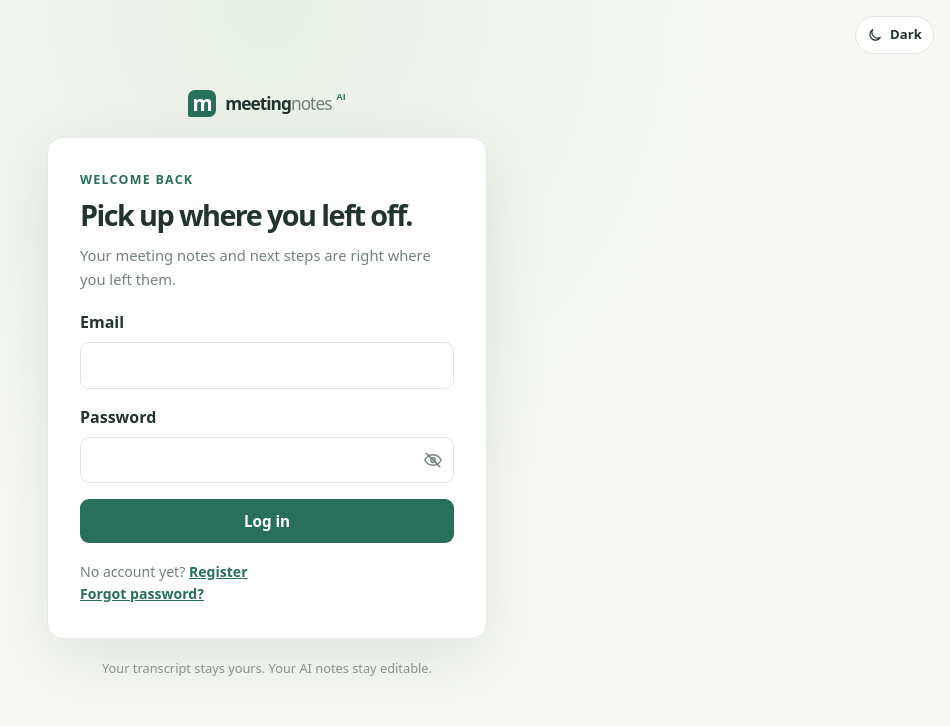
Test: AuthPage › shows failed sign-in feedback inline
The image size is (950, 726).
Type "person@example.com" into the field labelled "Email" at coordinates (267, 366), box [80,342,454,389]
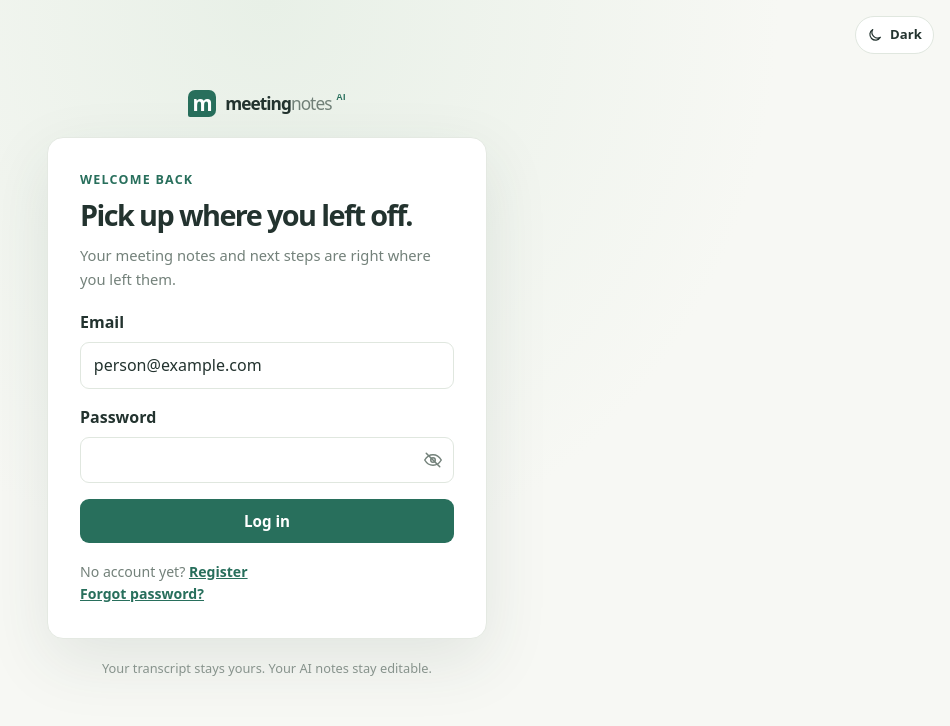
Type "wrong-password" into the password field labelled "Password" at coordinates (267, 460), box [80,437,454,483]
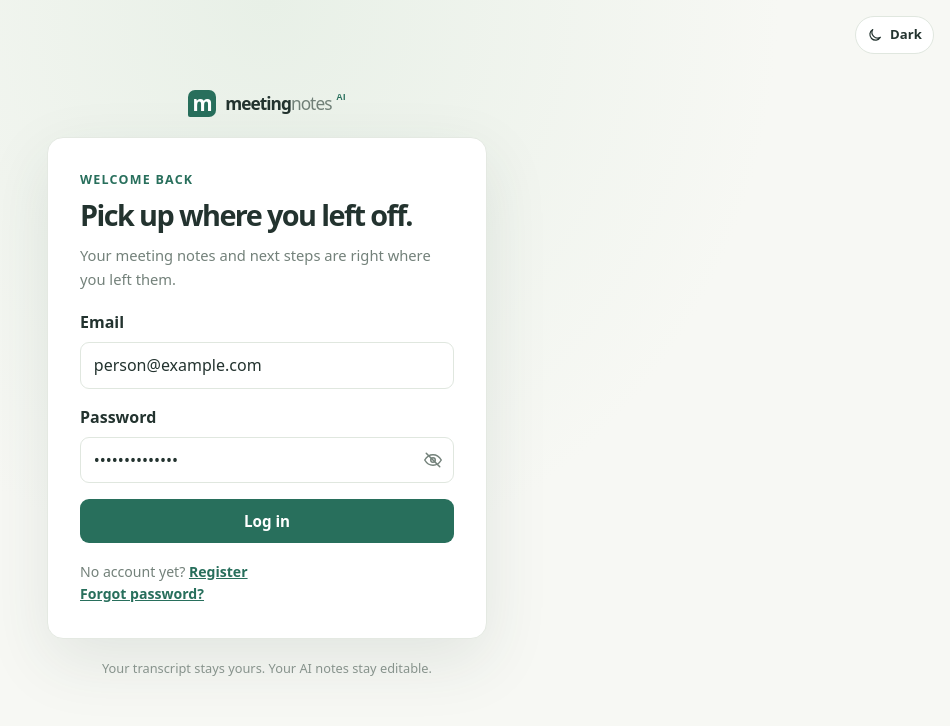
Click the button "Log in" at coordinates (267, 521), box [80,499,454,543]
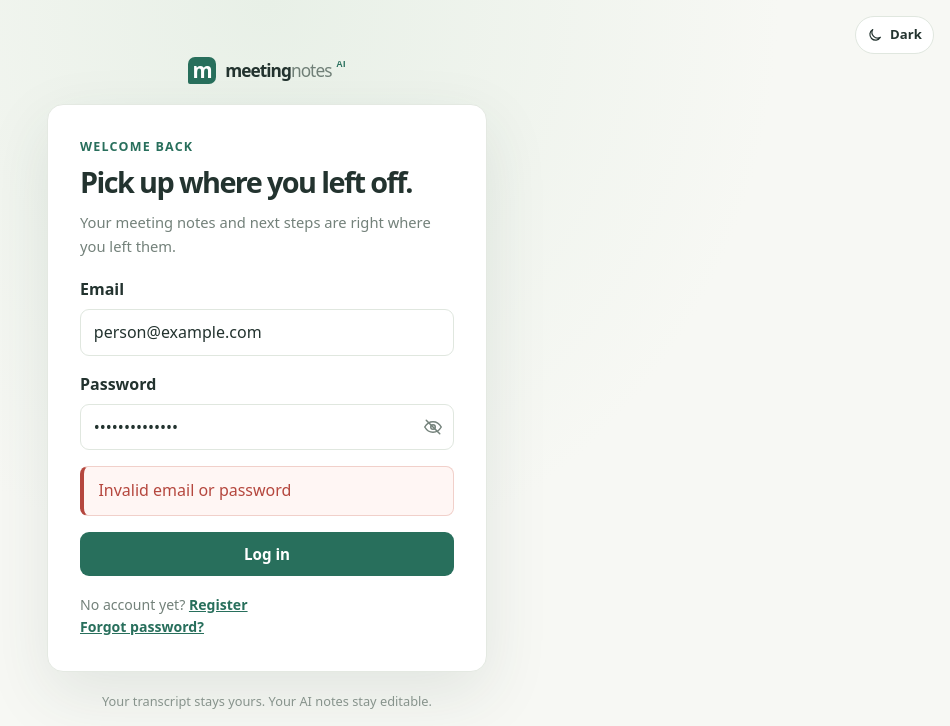
expect the message reads "Invalid email or password": met, box [98,479,291,501]
